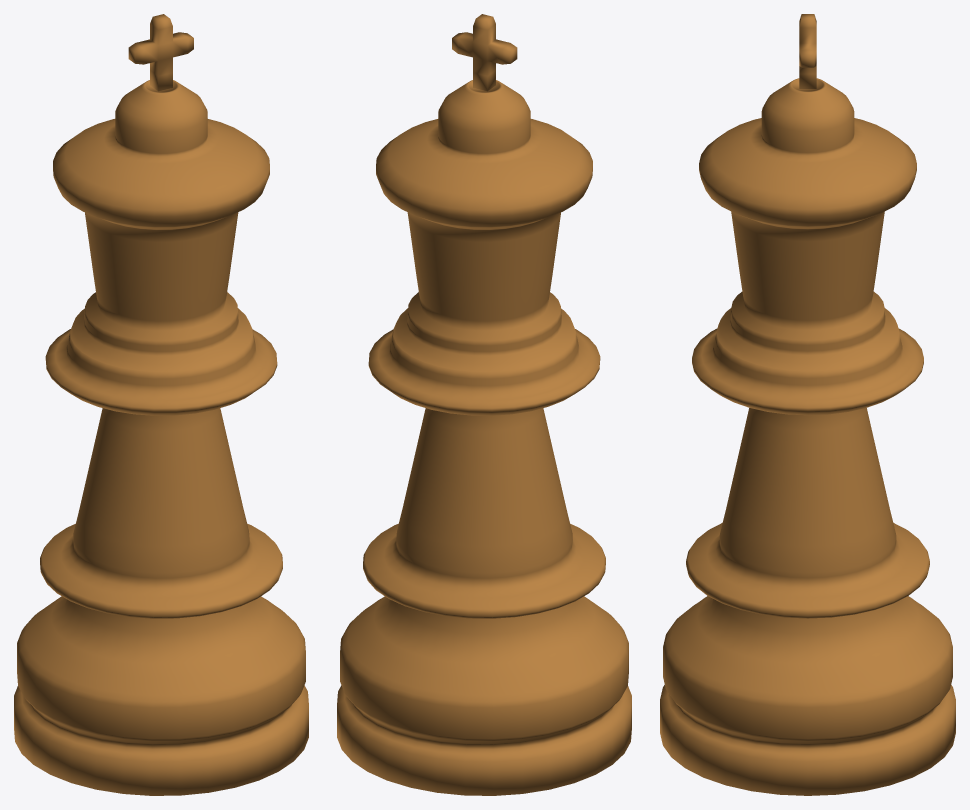
The model's file is gercek3_k_w.glb.
3 renders of one model, left to right at view 1: azimuth 30°, elevation 25°; view 2: azimuth 150°, elevation 25°; view 3: azimuth 270°, elevation 25°, orthographic.
Visible parts, largest first — view 1: Object_6, Object_4; view 2: Object_6, Object_4; view 3: Object_6, Object_4.
Boxes of the visible parts, x1,y1,x2,y2 form: Object_6: [14, 80, 308, 795]; Object_4: [128, 14, 193, 91]; Object_6: [337, 80, 631, 795]; Object_4: [452, 14, 517, 91]; Object_6: [660, 78, 955, 795]; Object_4: [799, 14, 816, 88].
Size of the model in its own units: 1.51 by 4.05 by 1.51.
